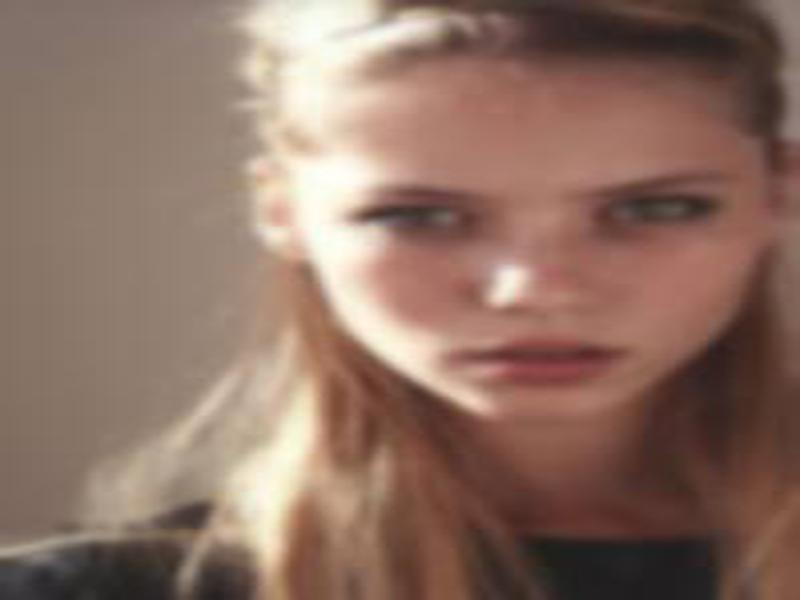without_mask: (297, 97, 753, 422)
